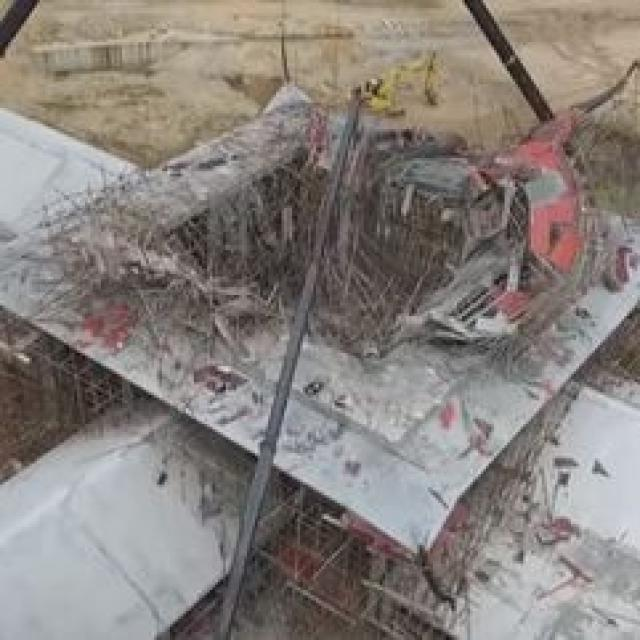collapsed_building: (34, 66, 611, 484)
